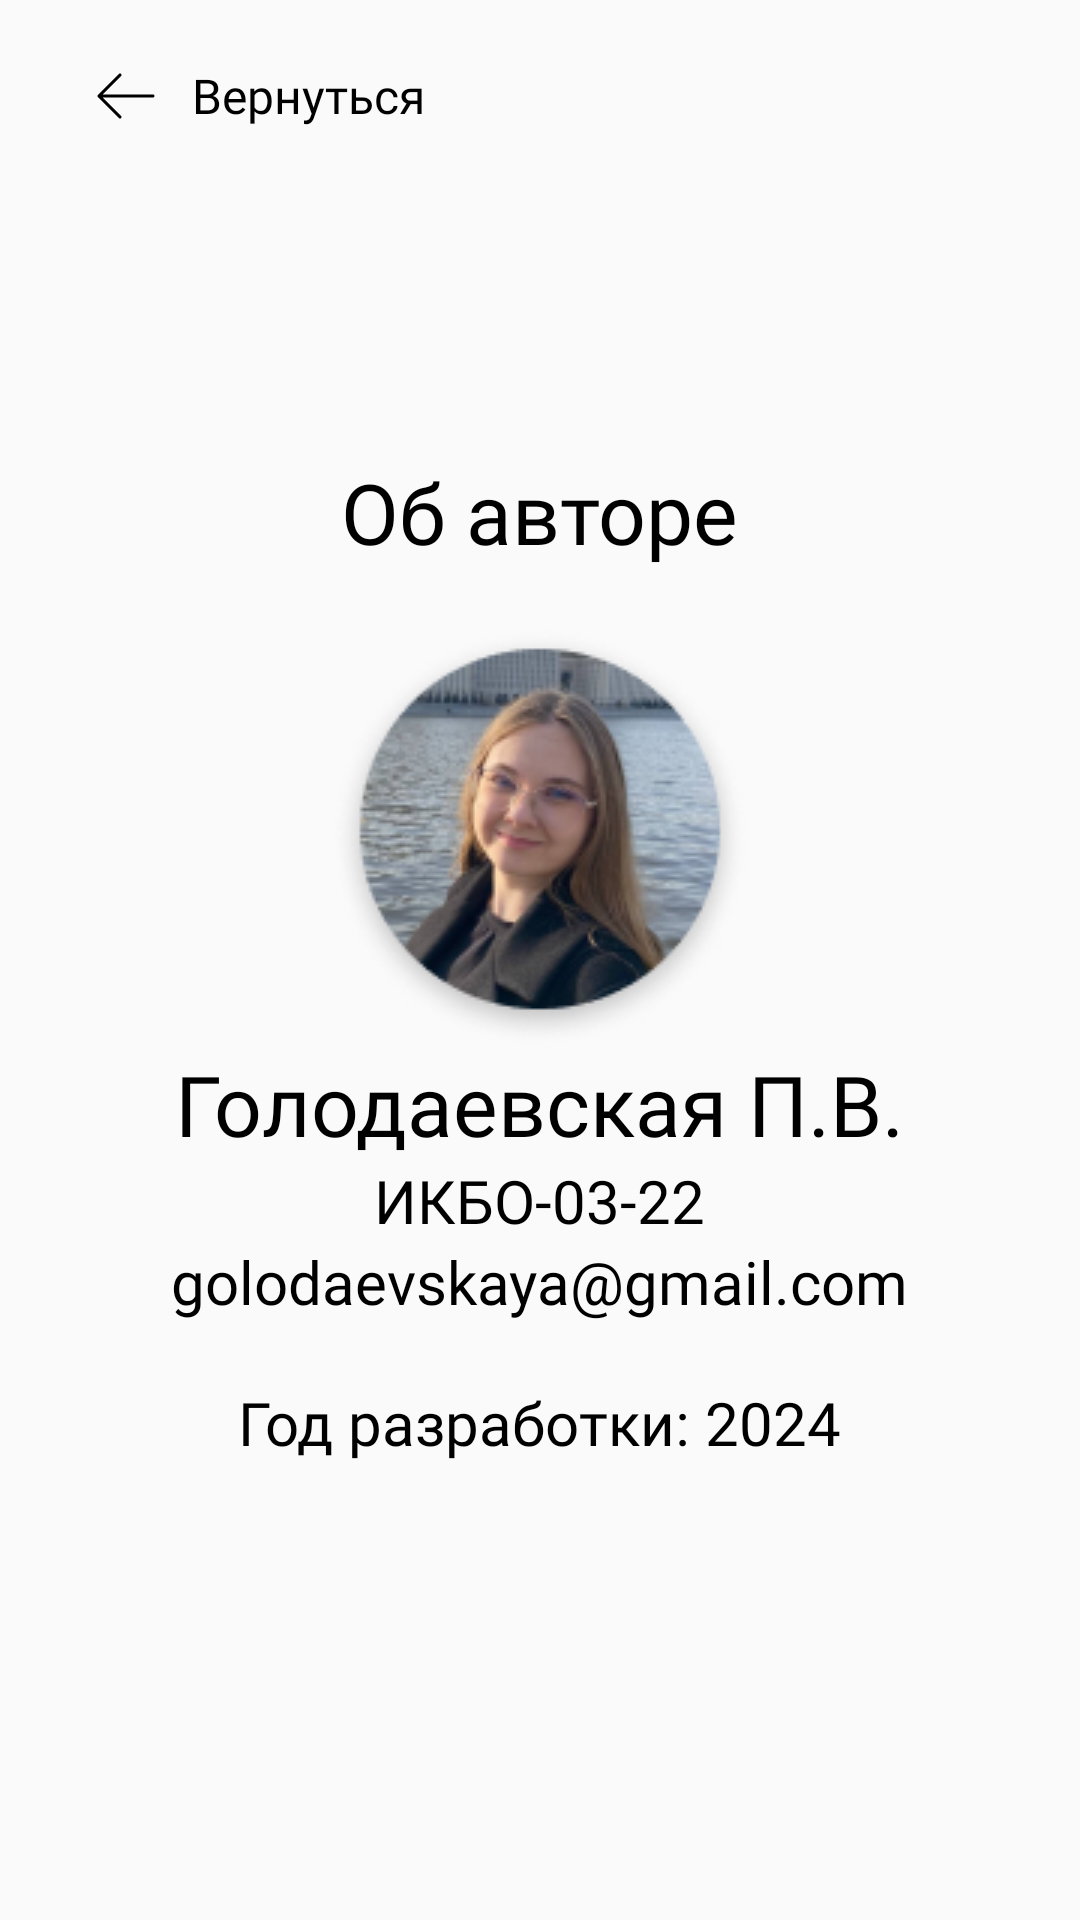

Screen size 1080x1920. Icon name, then its box in pixels as (x1, y1, x2, y2):
arrow left: (97, 73, 155, 119)
